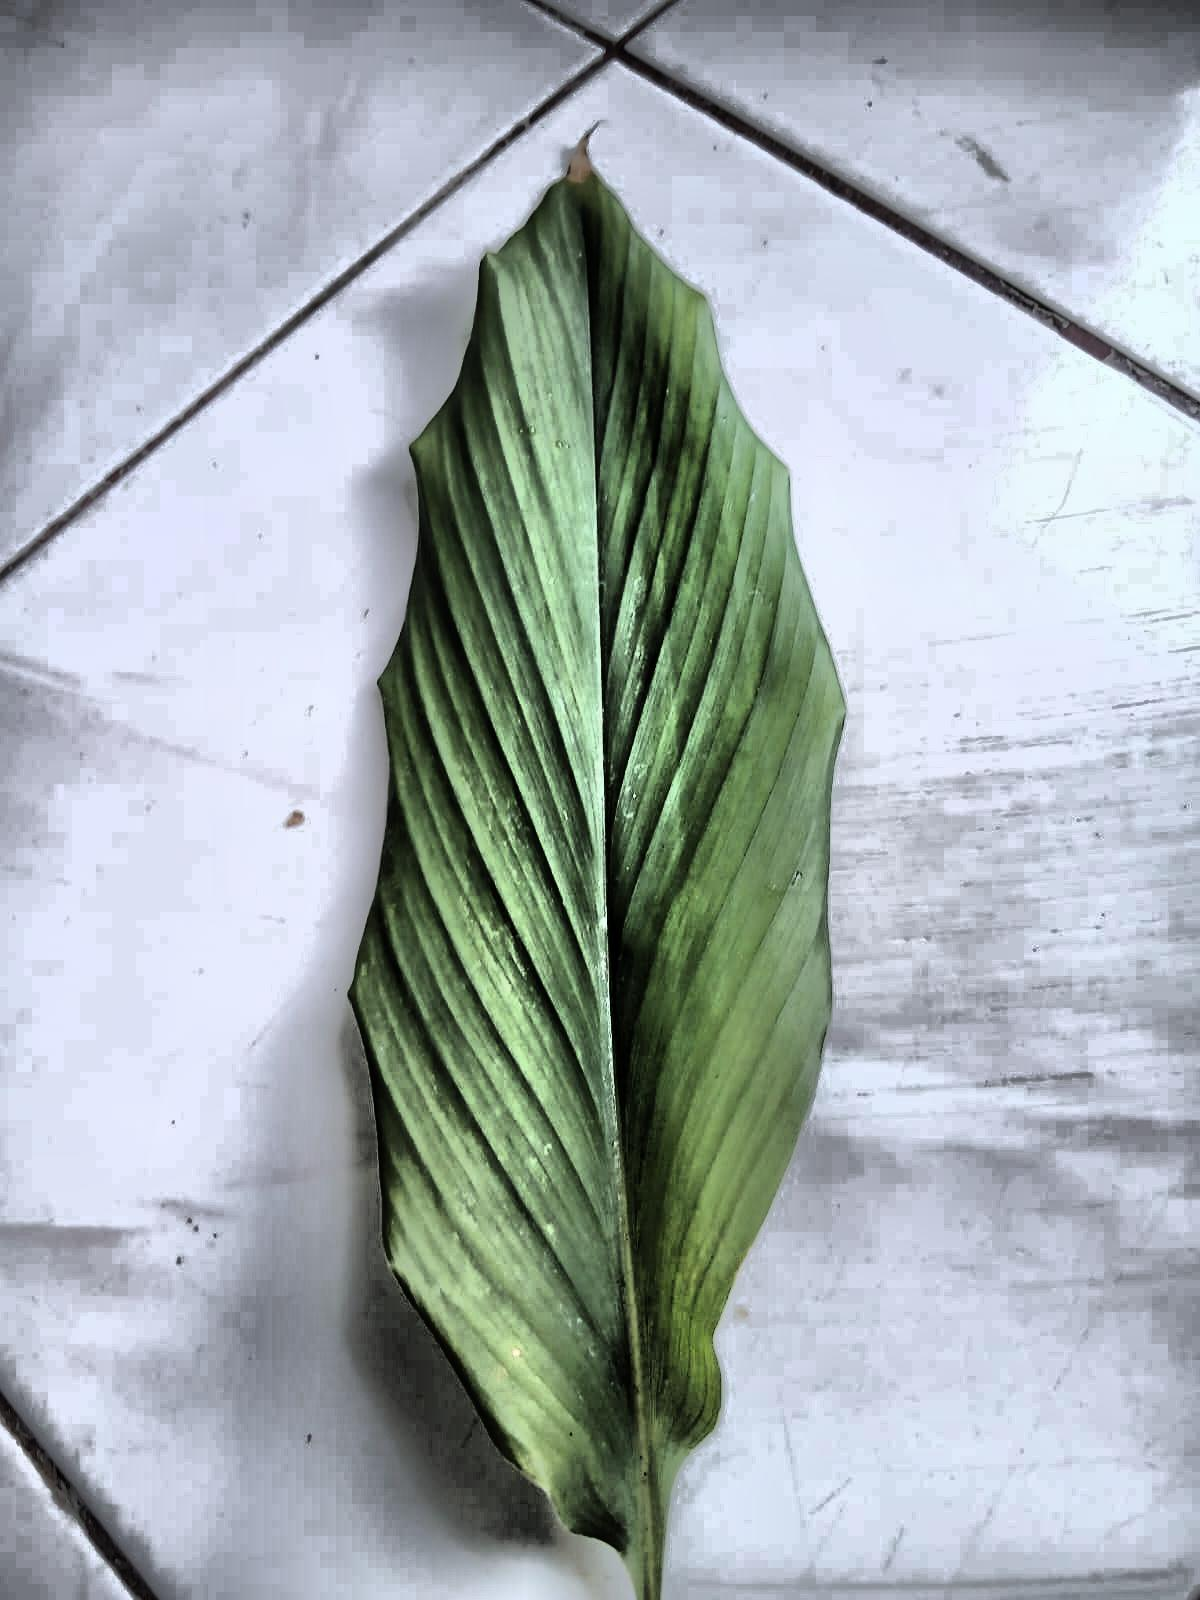daun kunyit: (350, 147, 845, 1599)
